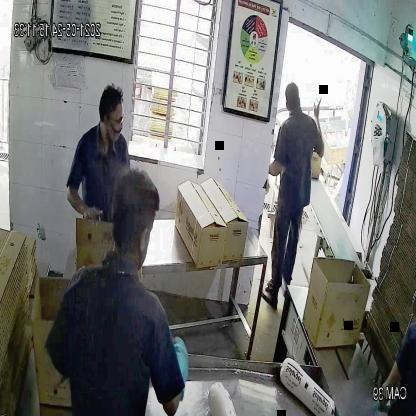goggles: (103, 110, 127, 128)
